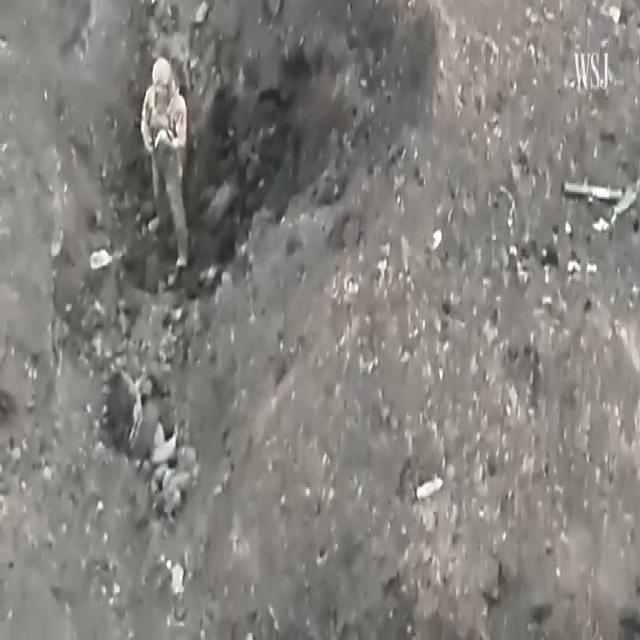MIL_Pax: (141, 58, 188, 266)
